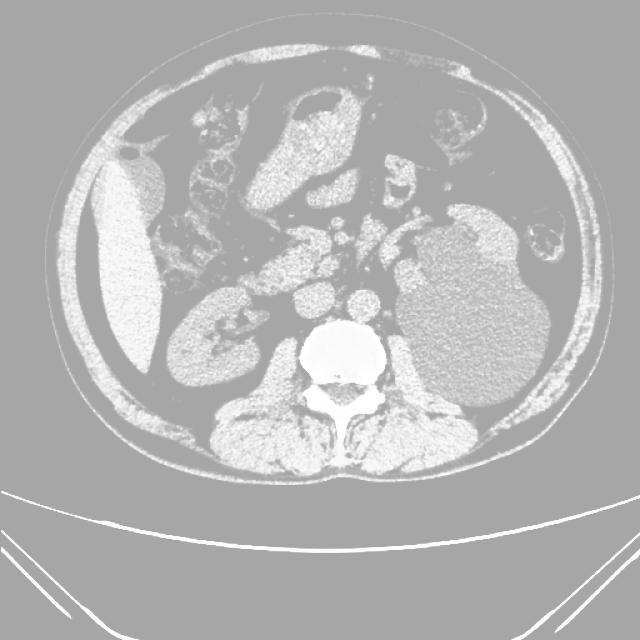cysts: (53, 38, 603, 483)
